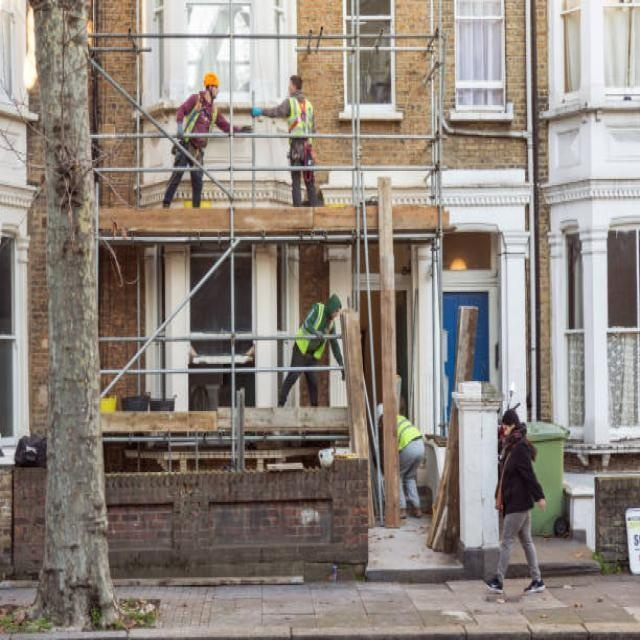Arnes_seguridad: (288, 96, 315, 165)
